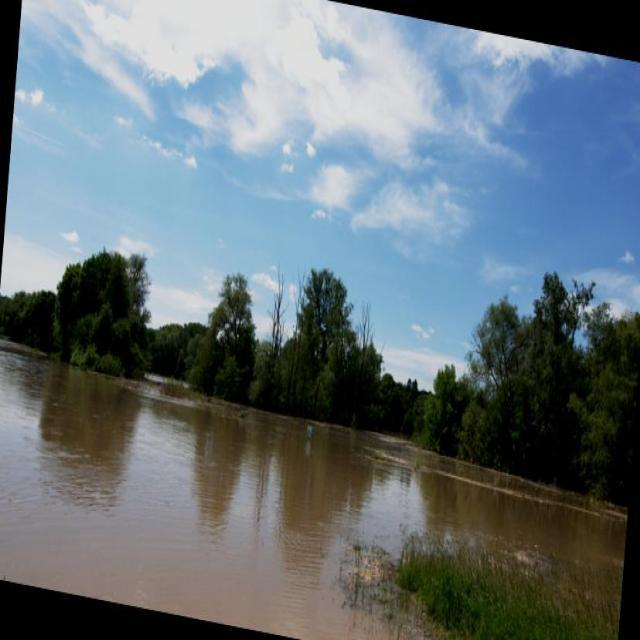flood: (0, 328, 633, 639)
